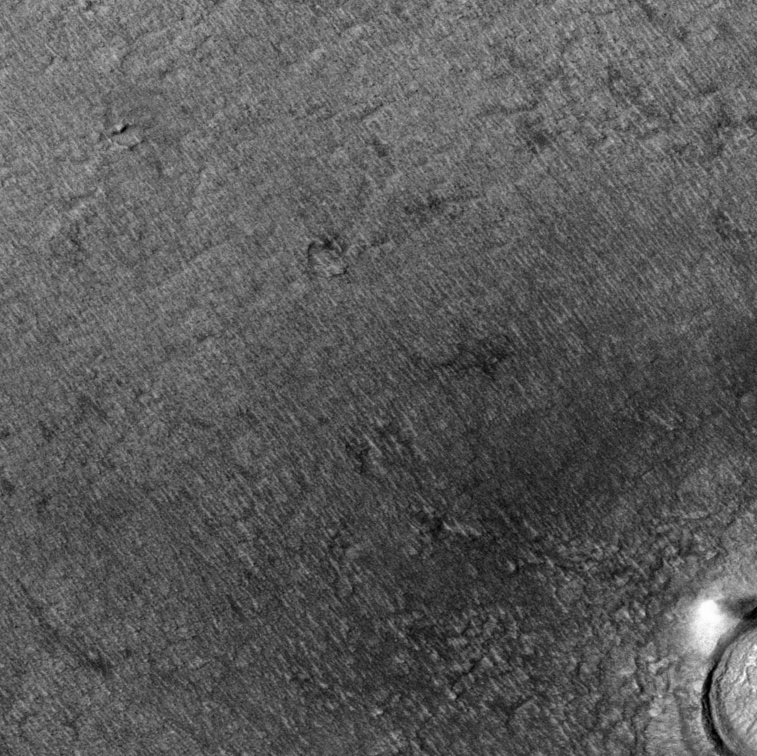dust_devil: (689, 591, 757, 661)
